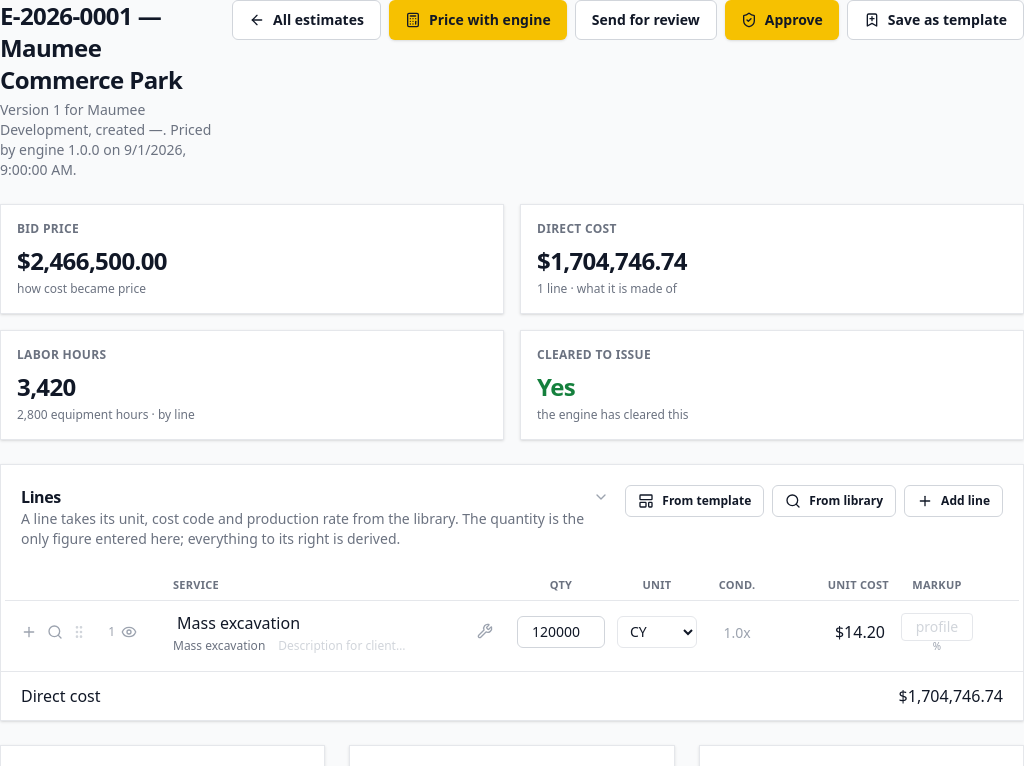
Scenario: pricing an estimate from the workspace › reports the price with the engine that produced it
This screenshot has width=1024, height=766.
Click the button "Price with engine": (478, 20) [389,0,567,40]
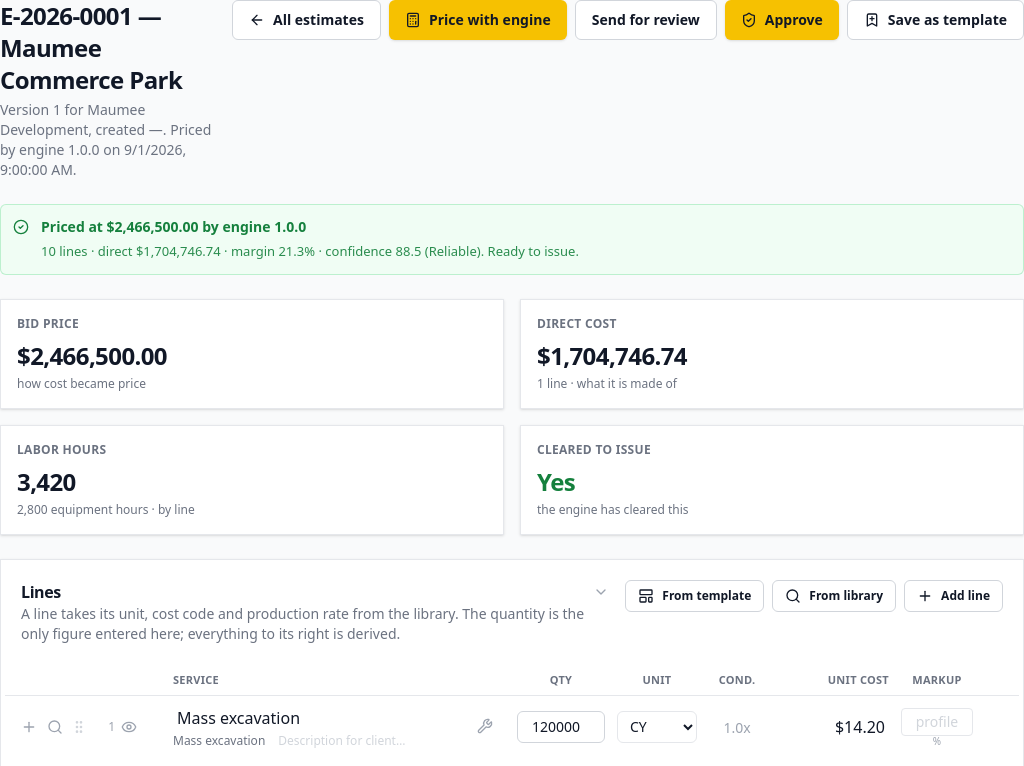
Expected: the text "Priced at $2,466,500.00 by engine 1.0.0" is shown, [41,217,306,236]
Expected: the text "Ready to issue" is shown, [484,242,579,260]
